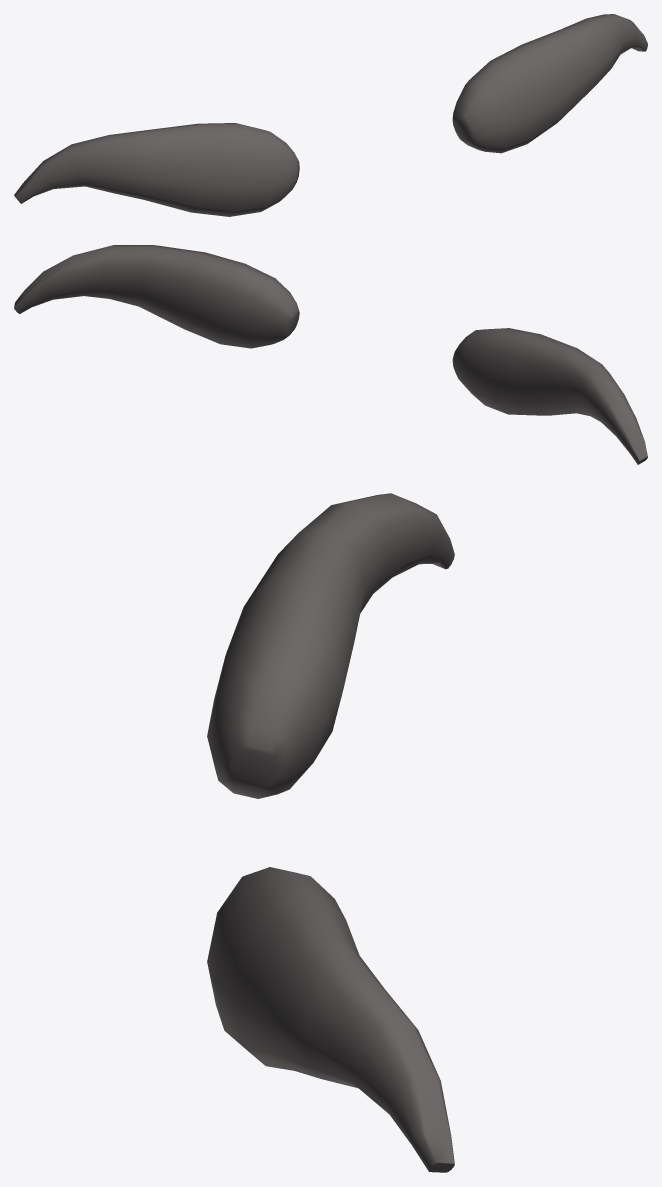
File: Eyebrows_24_04.fbx
The picture shows the model from 3 angles, top to bottom: view 1: azimuth 30°, elevation 25°; view 2: azimuth 150°, elevation 25°; view 3: azimuth 270°, elevation 25°; orthographic projection. The views are drawn at different scales.
Visible parts, largest first — view 1: Eyebrows_24_04; view 2: Eyebrows_24_04; view 3: Eyebrows_24_04.
Part boxes in pixels (x1,y1,x2,y2): Eyebrows_24_04: (14, 14, 647, 216); Eyebrows_24_04: (14, 245, 647, 464); Eyebrows_24_04: (207, 493, 454, 1172).
Size of the model in its own units: 19.24 by 2.6 by 3.26.
